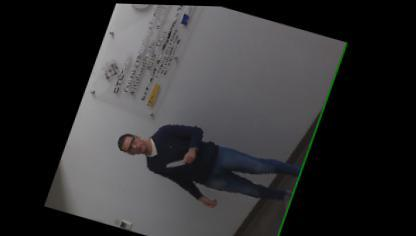knife: (166, 146, 201, 173)
